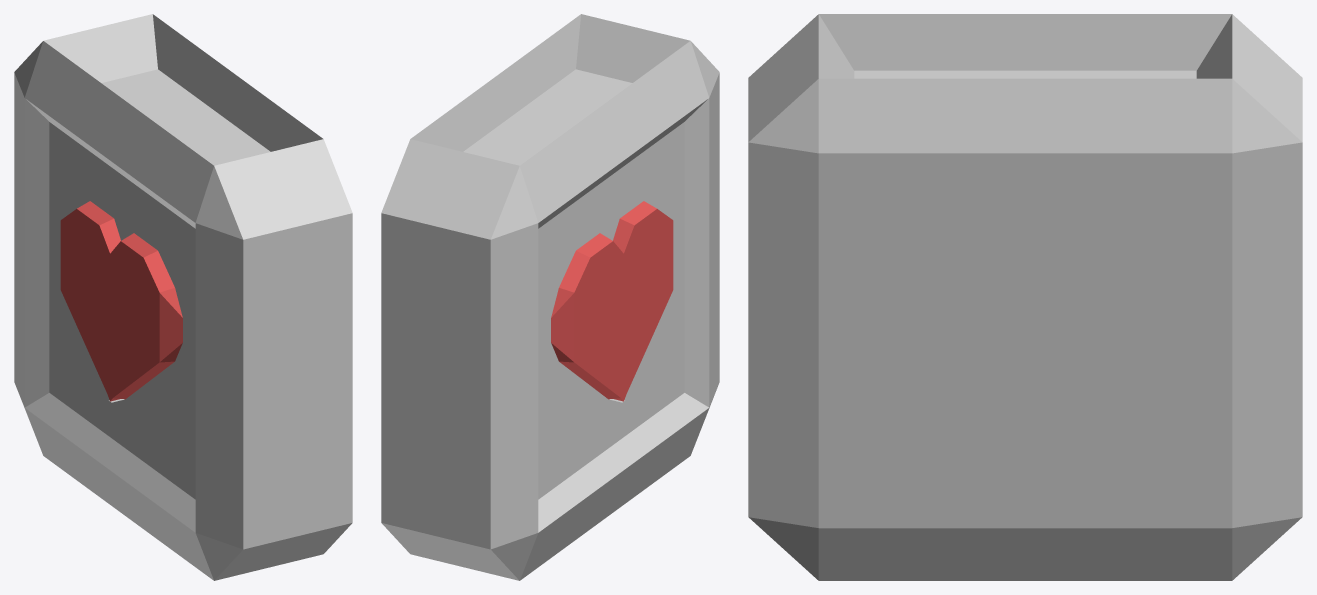
File: heal.fbx
3 renders of one model, left to right at view 1: azimuth 30°, elevation 25°; view 2: azimuth 150°, elevation 25°; view 3: azimuth 270°, elevation 25°, orthographic. The views are drawn at different scales.
Visible parts, largest first — view 1: Cube; view 2: Cube; view 3: Cube.
Part boxes in pixels (left/top/right/bottom): Cube: left=14, top=14, right=352, bottom=580; Cube: left=381, top=14, right=719, bottom=580; Cube: left=748, top=14, right=1302, bottom=580.
Size of the model in its own units: 1.07 by 0.3972 by 1.07.
